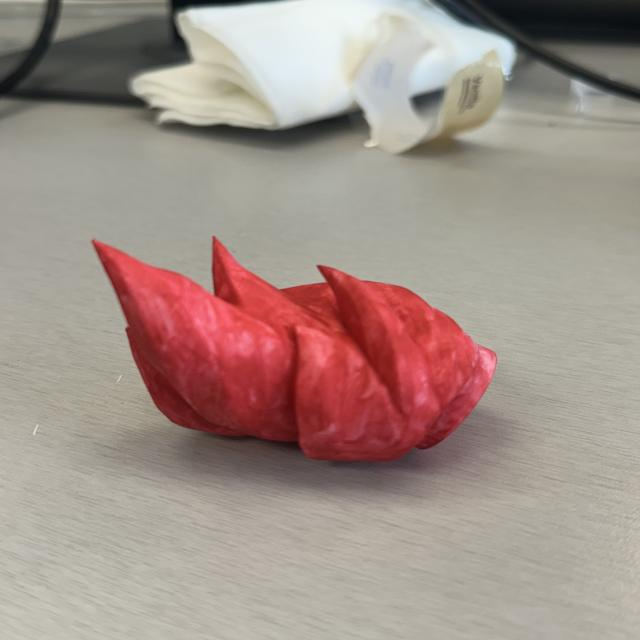fire: (86, 235, 500, 466)
